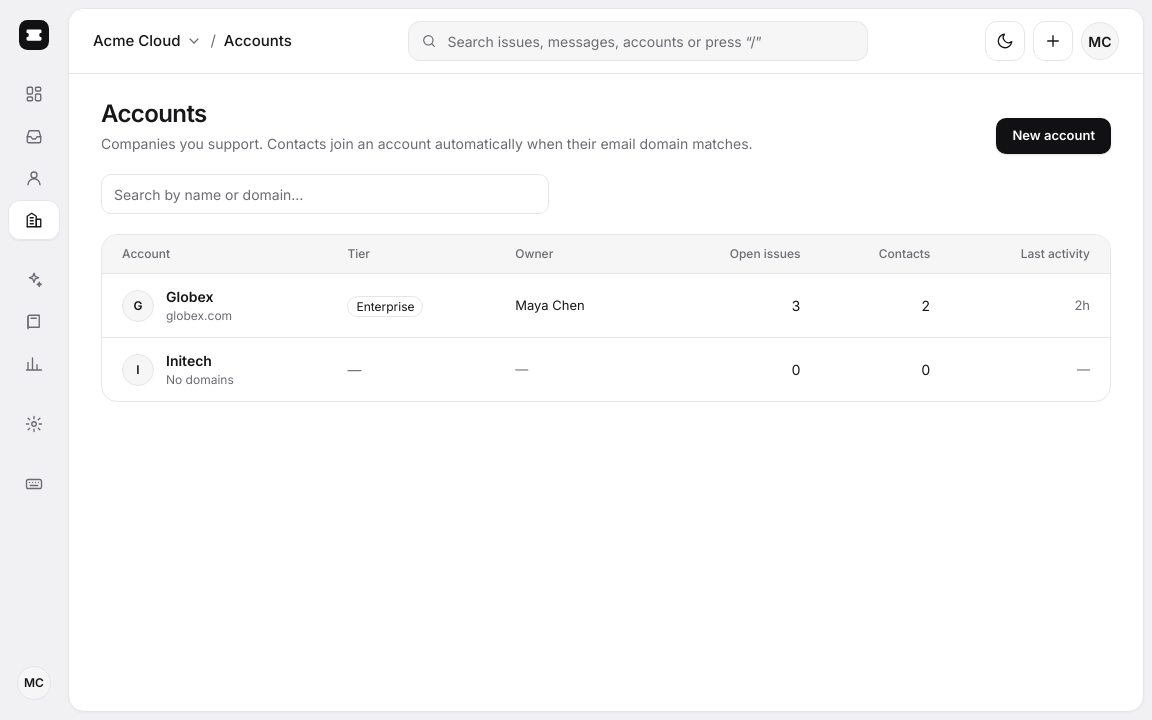
Test: accounts list (T-210) › shows the API's reason when a domain is refused
The width and height of the screenshot is (1152, 720).
Expected: the table is shown, [102,235,1110,401]
Click the button "New account" at coordinates (1054, 136), box [996,118,1111,154]
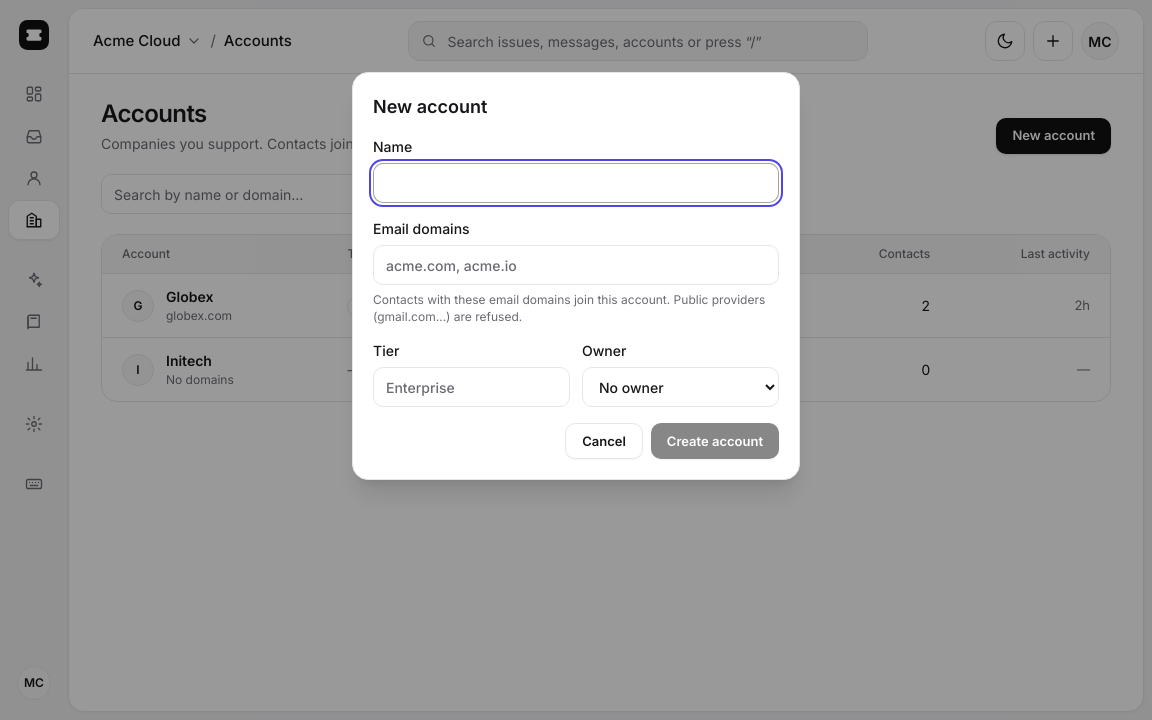
Type "Gmail people" into the field labelled "Name" at coordinates (576, 183), box [373,163,779,203]
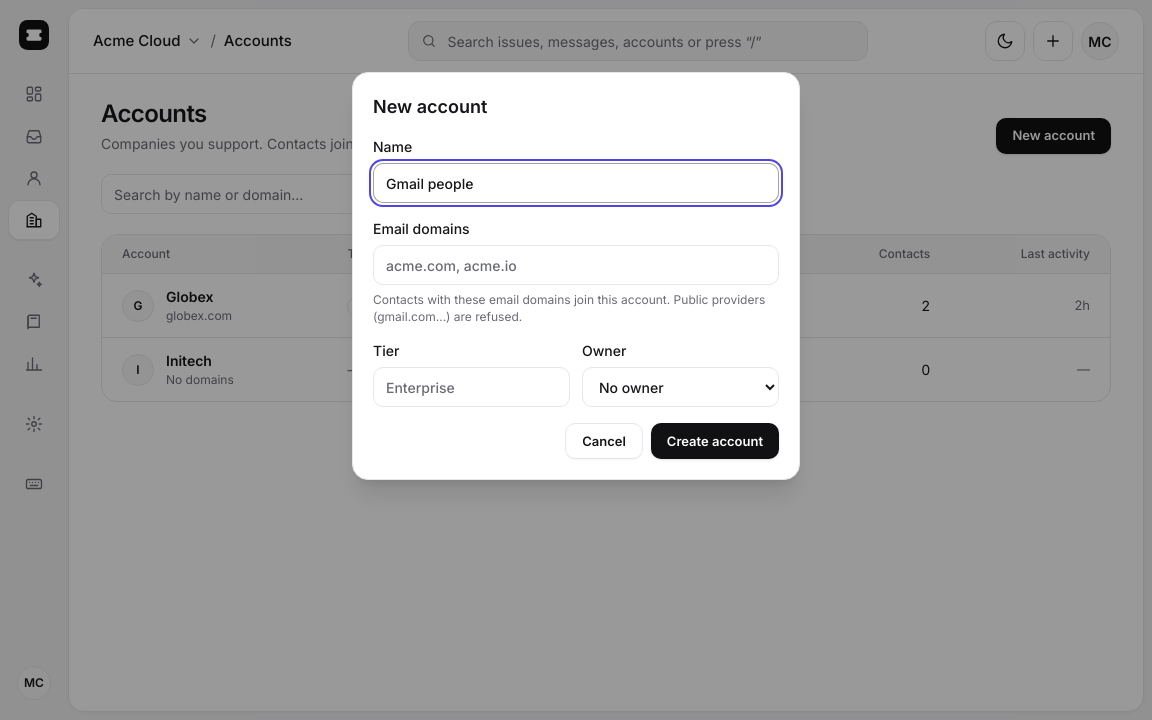
Type "gmail.com" into the field labelled "Email domains" at coordinates (576, 265), box [373,245,779,285]
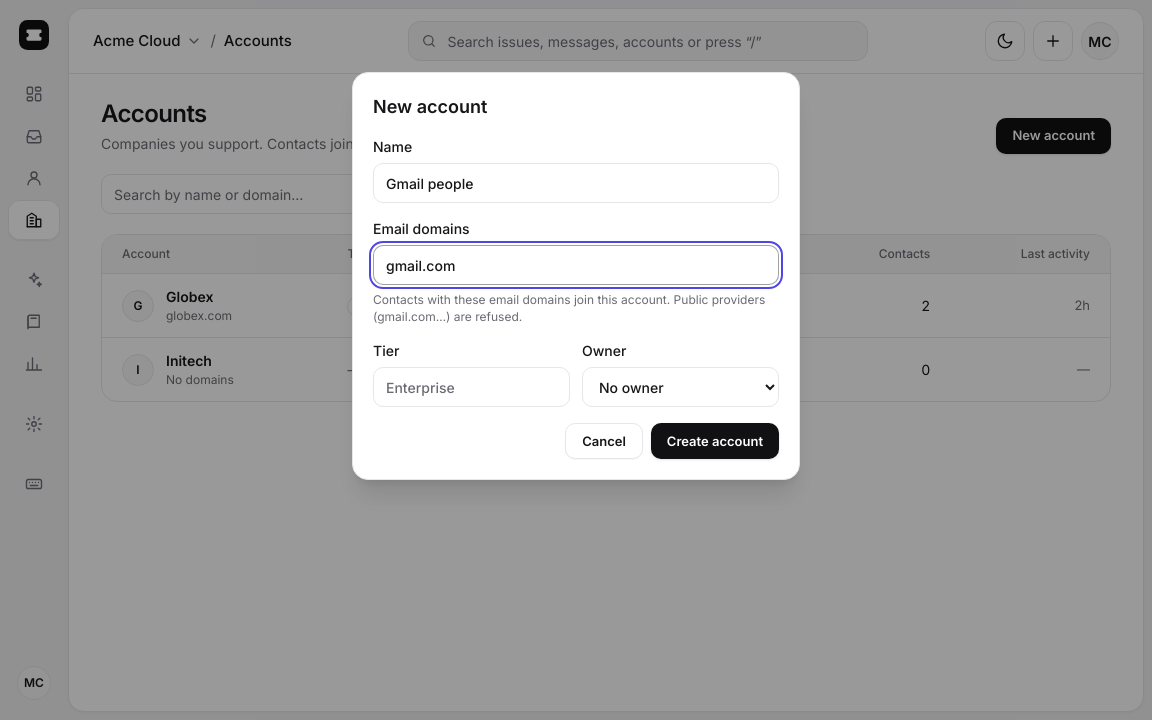
Click the button "Create account" at coordinates (715, 441), box [651,423,779,459]
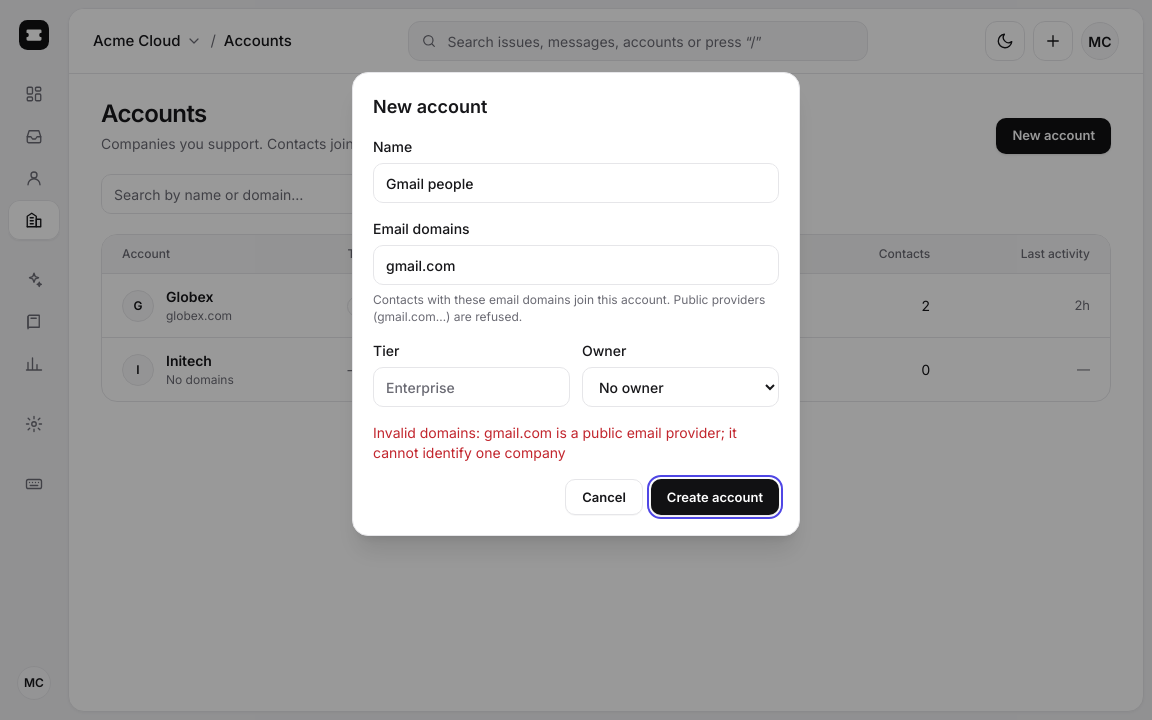
Expected: the message shows "Invalid domains: gmail.com is a public email provider; it cannot identify one company", [373,424,737,461]
Press Escape
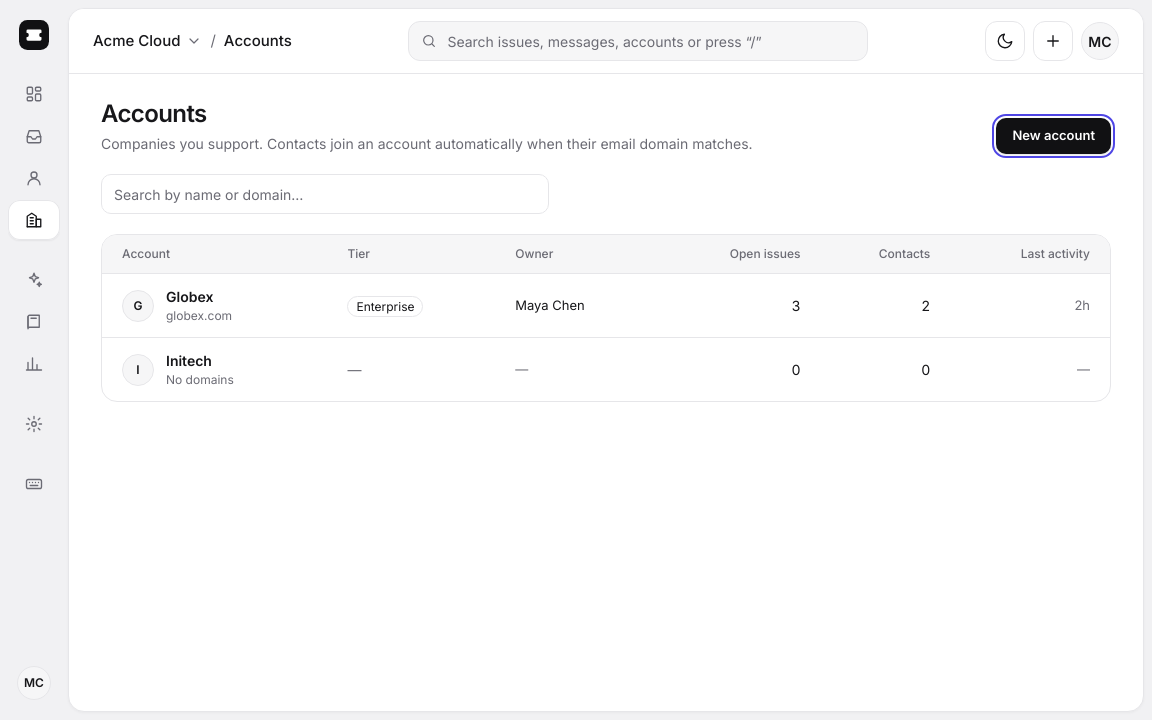
Expected: the dialog is gone
